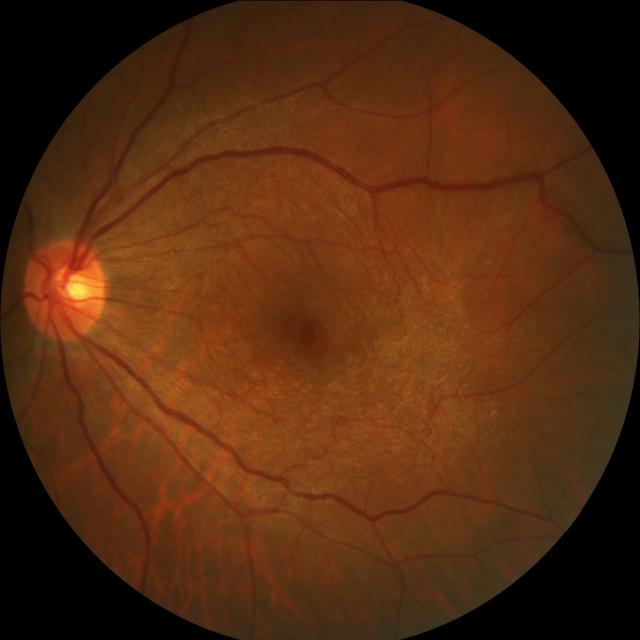OC: (44, 261, 91, 311)
OD: (21, 236, 107, 341)
